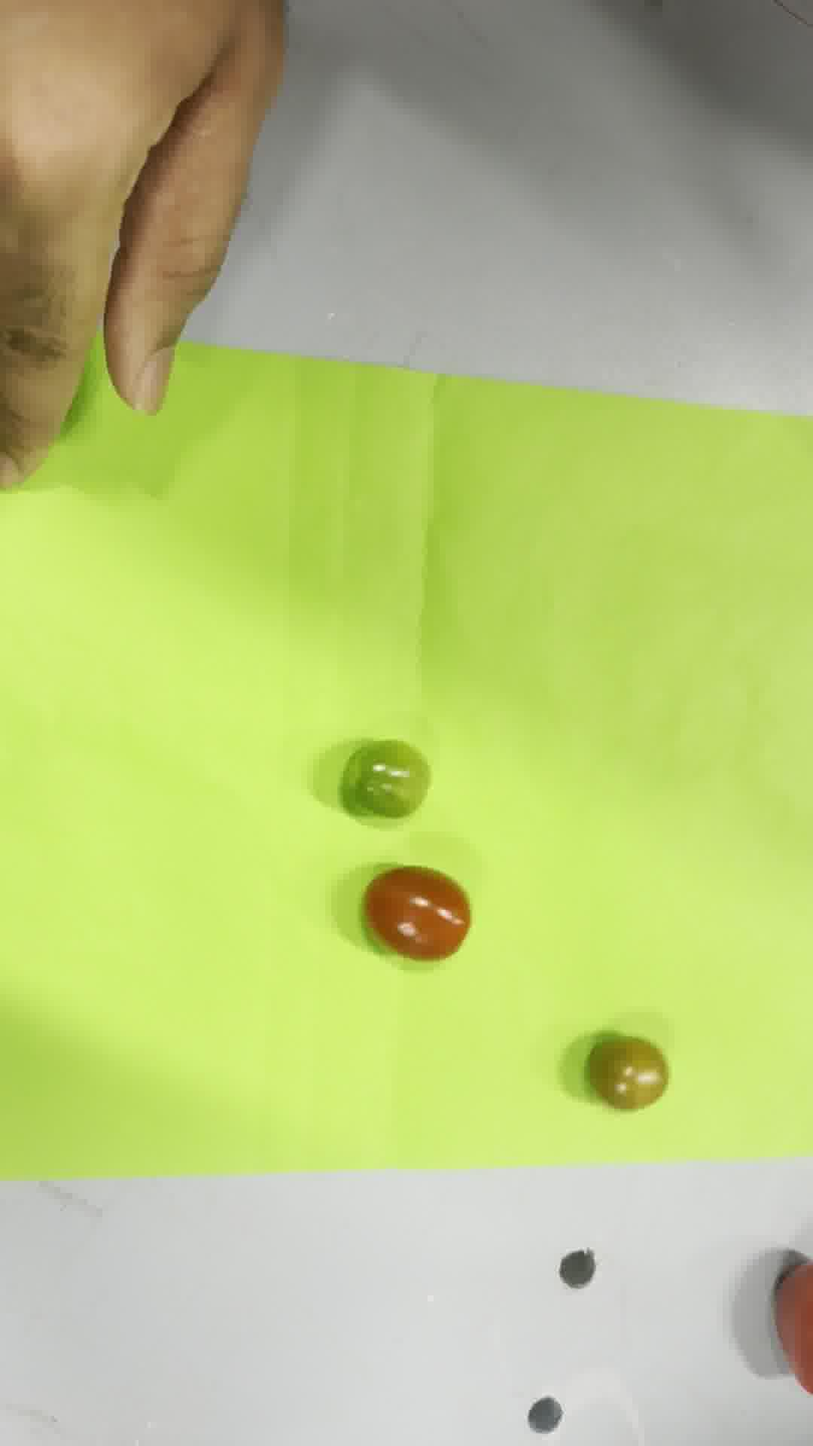green_cherry_tomato: (340, 739, 431, 820)
red_cherry_tomato: (364, 867, 470, 961)
yellow_cherry_tomato: (588, 1036, 666, 1109)
